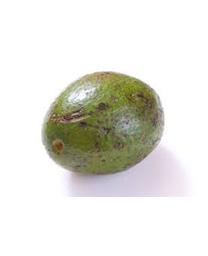avocado: (39, 70, 165, 176)
